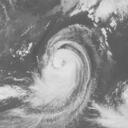cyclone: (30, 39, 93, 99)
